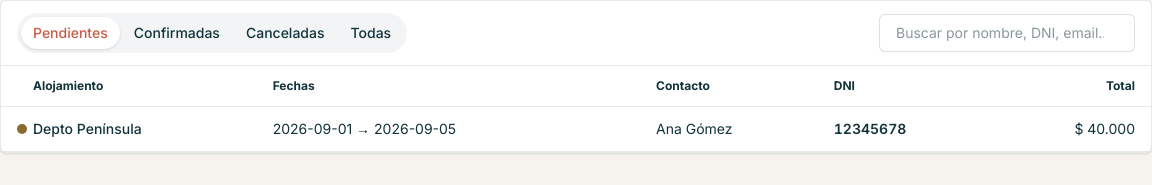
Test: ReservasTable — filtros y búsqueda › una búsqueda sin coincidencias muestra el mensaje de 'ninguna coincide'
This screenshot has width=1152, height=185.
In the search field named "Buscar reservas": {"x": 1007, "y": 33} [879,14,1135,52], type "zzzzz"
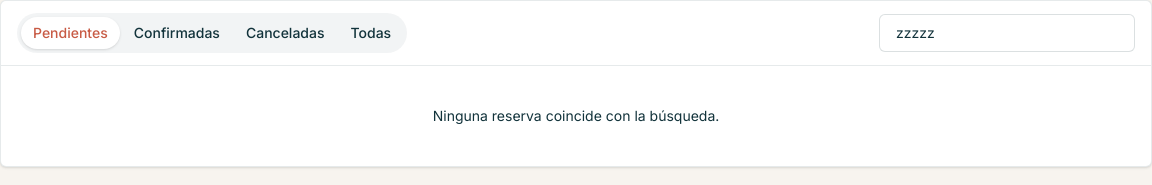
Expected: the text "Ninguna reserva coincide con la búsqueda." is shown, [433,107,719,124]
